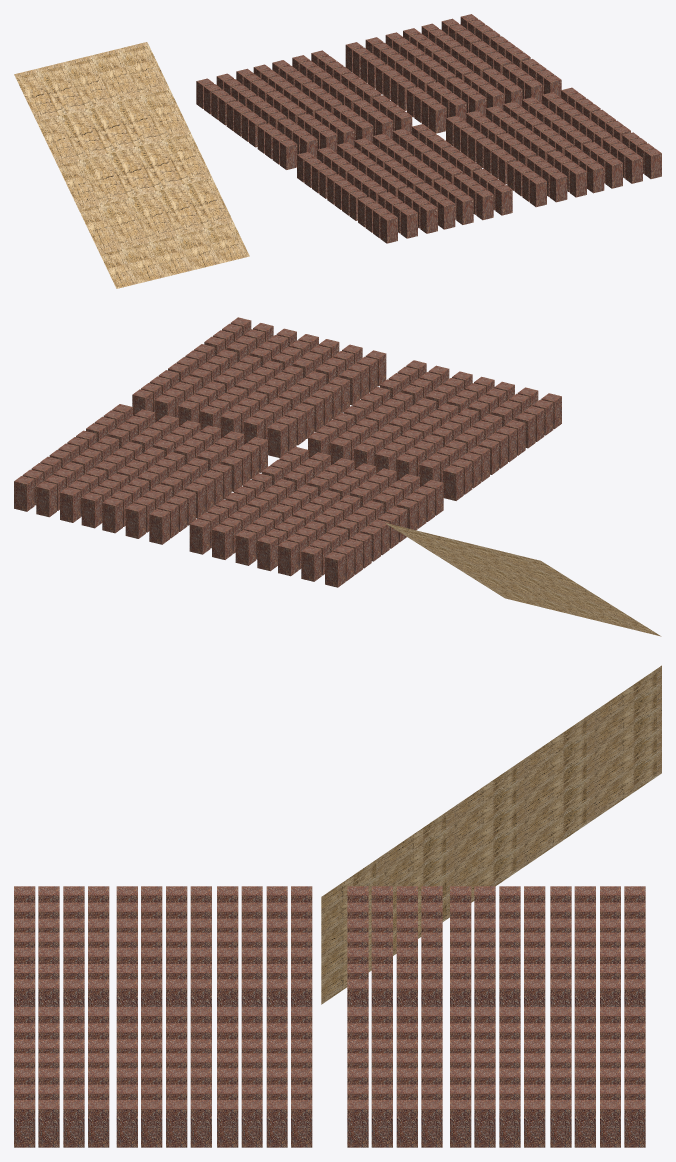
File: Sumerian_wall_onConstruction.fbx
The picture shows the model from 3 angles, top to bottom: view 1: azimuth 30°, elevation 25°; view 2: azimuth 150°, elevation 25°; view 3: azimuth 270°, elevation 25°; orthographic projection. The views are drawn at different scales.
Parts seen in each view (by area): view 1: Cube.064, Cube.964, Cube.806, Cube.1012, Cube.1011, Cube.831, Cube.830, Cube.312, Cube.988, Cube.987, Cube.963, Cube.807 (+5 smaller); view 2: Cube.064, Cube.860, Cube.050, Cube.905, Cube.926, Cube.026, Cube.950, Cube.902, Cube.881, Cube.878, Cube.047, Cube.023 (+6 smaller); view 3: Cube.064, Cube.1035, Cube.1034, Cube.1033, Cube.1032, Cube.1031, Cube.1030, Cube.1029, Cube.1028, Cube.1027, Cube.1026, Cube.1025 (+13 smaller).
Boxes of the visible parts, <box> form: Cube.064: <box>14,42,249,288</box>; Cube.964: <box>549,172,567,202</box>; Cube.806: <box>437,199,455,229</box>; Cube.1012: <box>625,153,642,183</box>; Cube.1011: <box>605,158,622,188</box>; Cube.831: <box>380,213,397,243</box>; Cube.830: <box>400,208,417,238</box>; Cube.312: <box>495,185,512,215</box>; Cube.988: <box>587,162,604,193</box>; Cube.987: <box>569,167,586,197</box>; Cube.963: <box>529,176,546,207</box>; Cube.807: <box>420,203,437,233</box>; Cube.064: <box>385,523,661,636</box>; Cube.860: <box>189,518,210,554</box>; Cube.050: <box>235,530,256,565</box>; Cube.905: <box>81,492,102,528</box>; Cube.926: <box>102,497,122,533</box>; Cube.026: <box>278,540,298,576</box>; Cube.950: <box>149,509,169,544</box>; Cube.902: <box>60,487,80,522</box>; Cube.881: <box>36,481,56,517</box>; Cube.878: <box>14,476,34,511</box>; Cube.047: <box>257,535,277,571</box>; Cube.023: <box>301,546,321,581</box>; Cube.064: <box>321,665,661,1004</box>; Cube.1035: <box>14,1100,35,1147</box>; Cube.1034: <box>38,1100,59,1147</box>; Cube.1033: <box>88,1100,109,1147</box>; Cube.1032: <box>63,1100,84,1147</box>; Cube.1031: <box>166,1100,187,1147</box>; Cube.1030: <box>190,1100,211,1147</box>; Cube.1029: <box>141,1100,162,1147</box>; Cube.1028: <box>116,1100,137,1147</box>; Cube.1027: <box>217,1100,238,1147</box>; Cube.1026: <box>241,1100,262,1147</box>; Cube.1025: <box>291,1100,312,1147</box>.
Bounding box in the file's own units: 1019 × 300 × 761.
